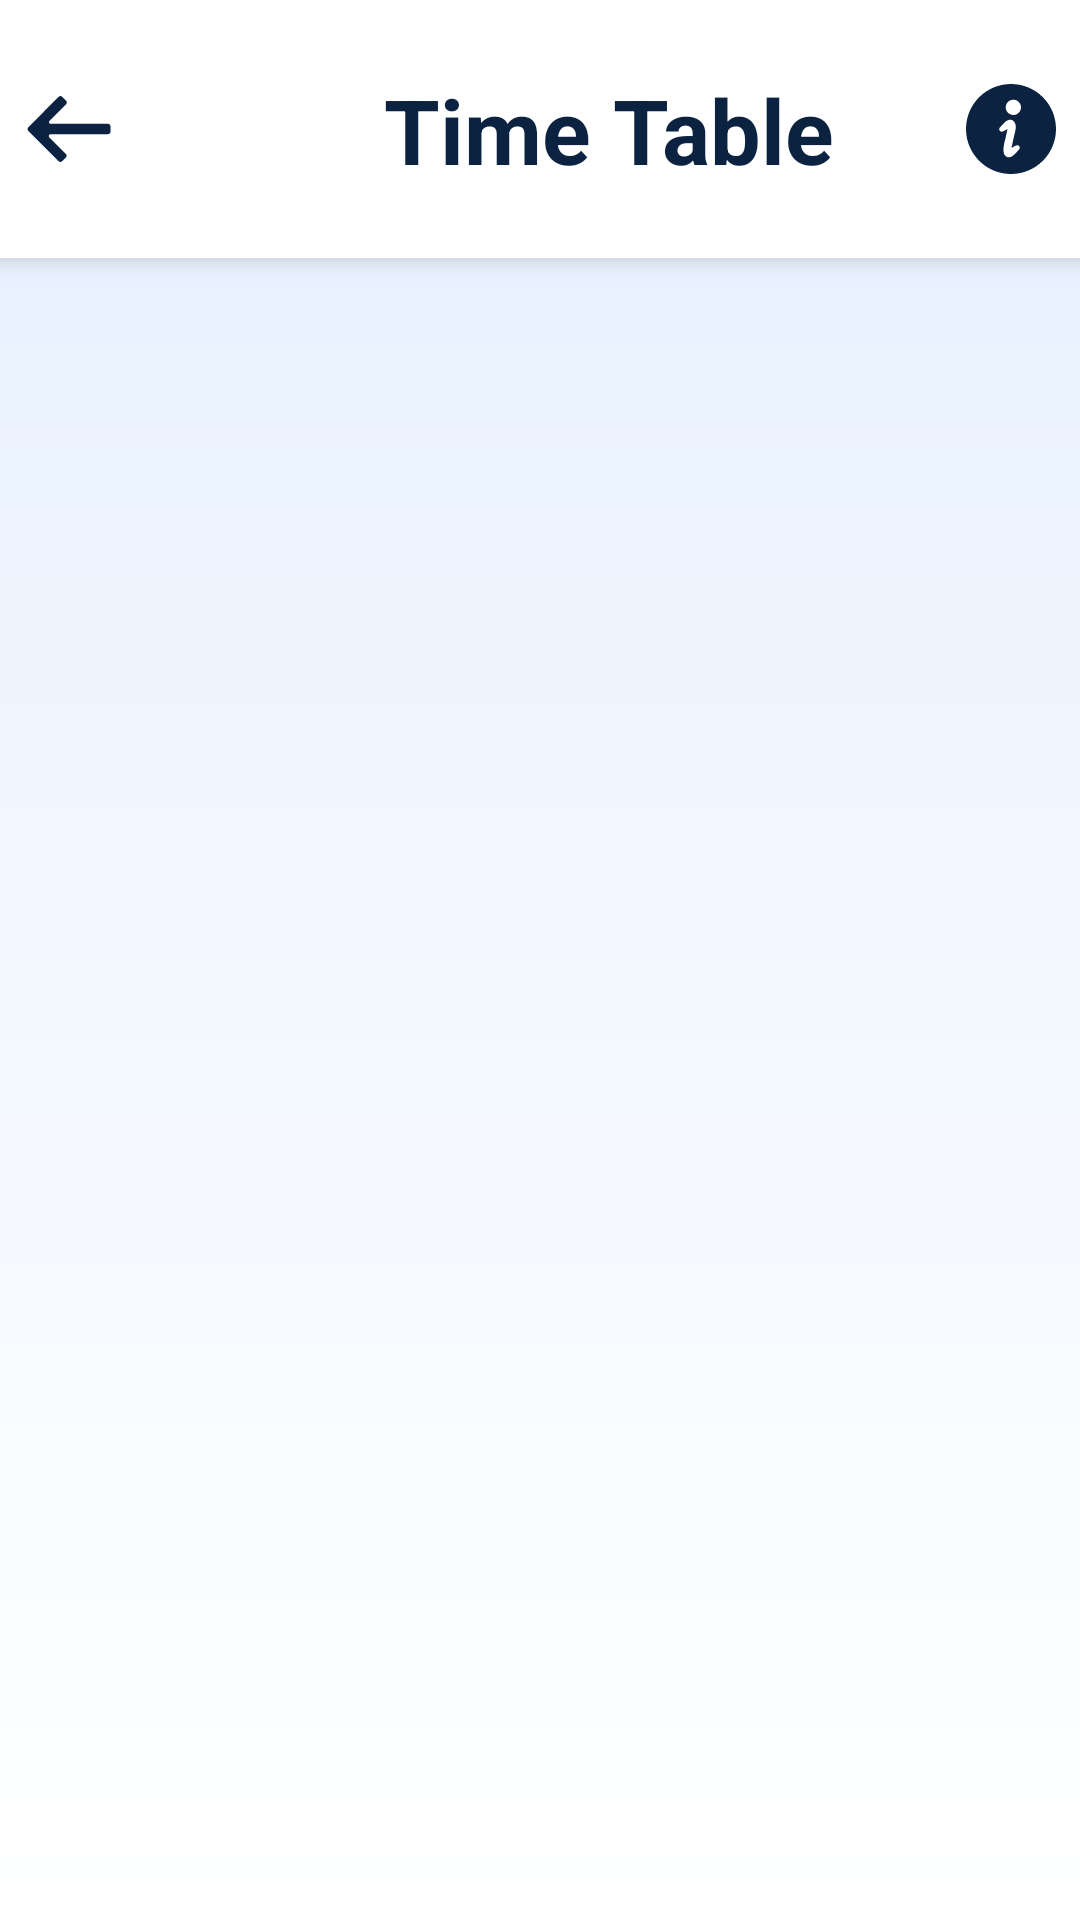

Screen size 1080 × 1920. Icon name, then its box in pixels as bbox=(x1, y1, x2, y2):
back: bbox=(27, 96, 111, 162)
Information: bbox=(966, 84, 1056, 174)
